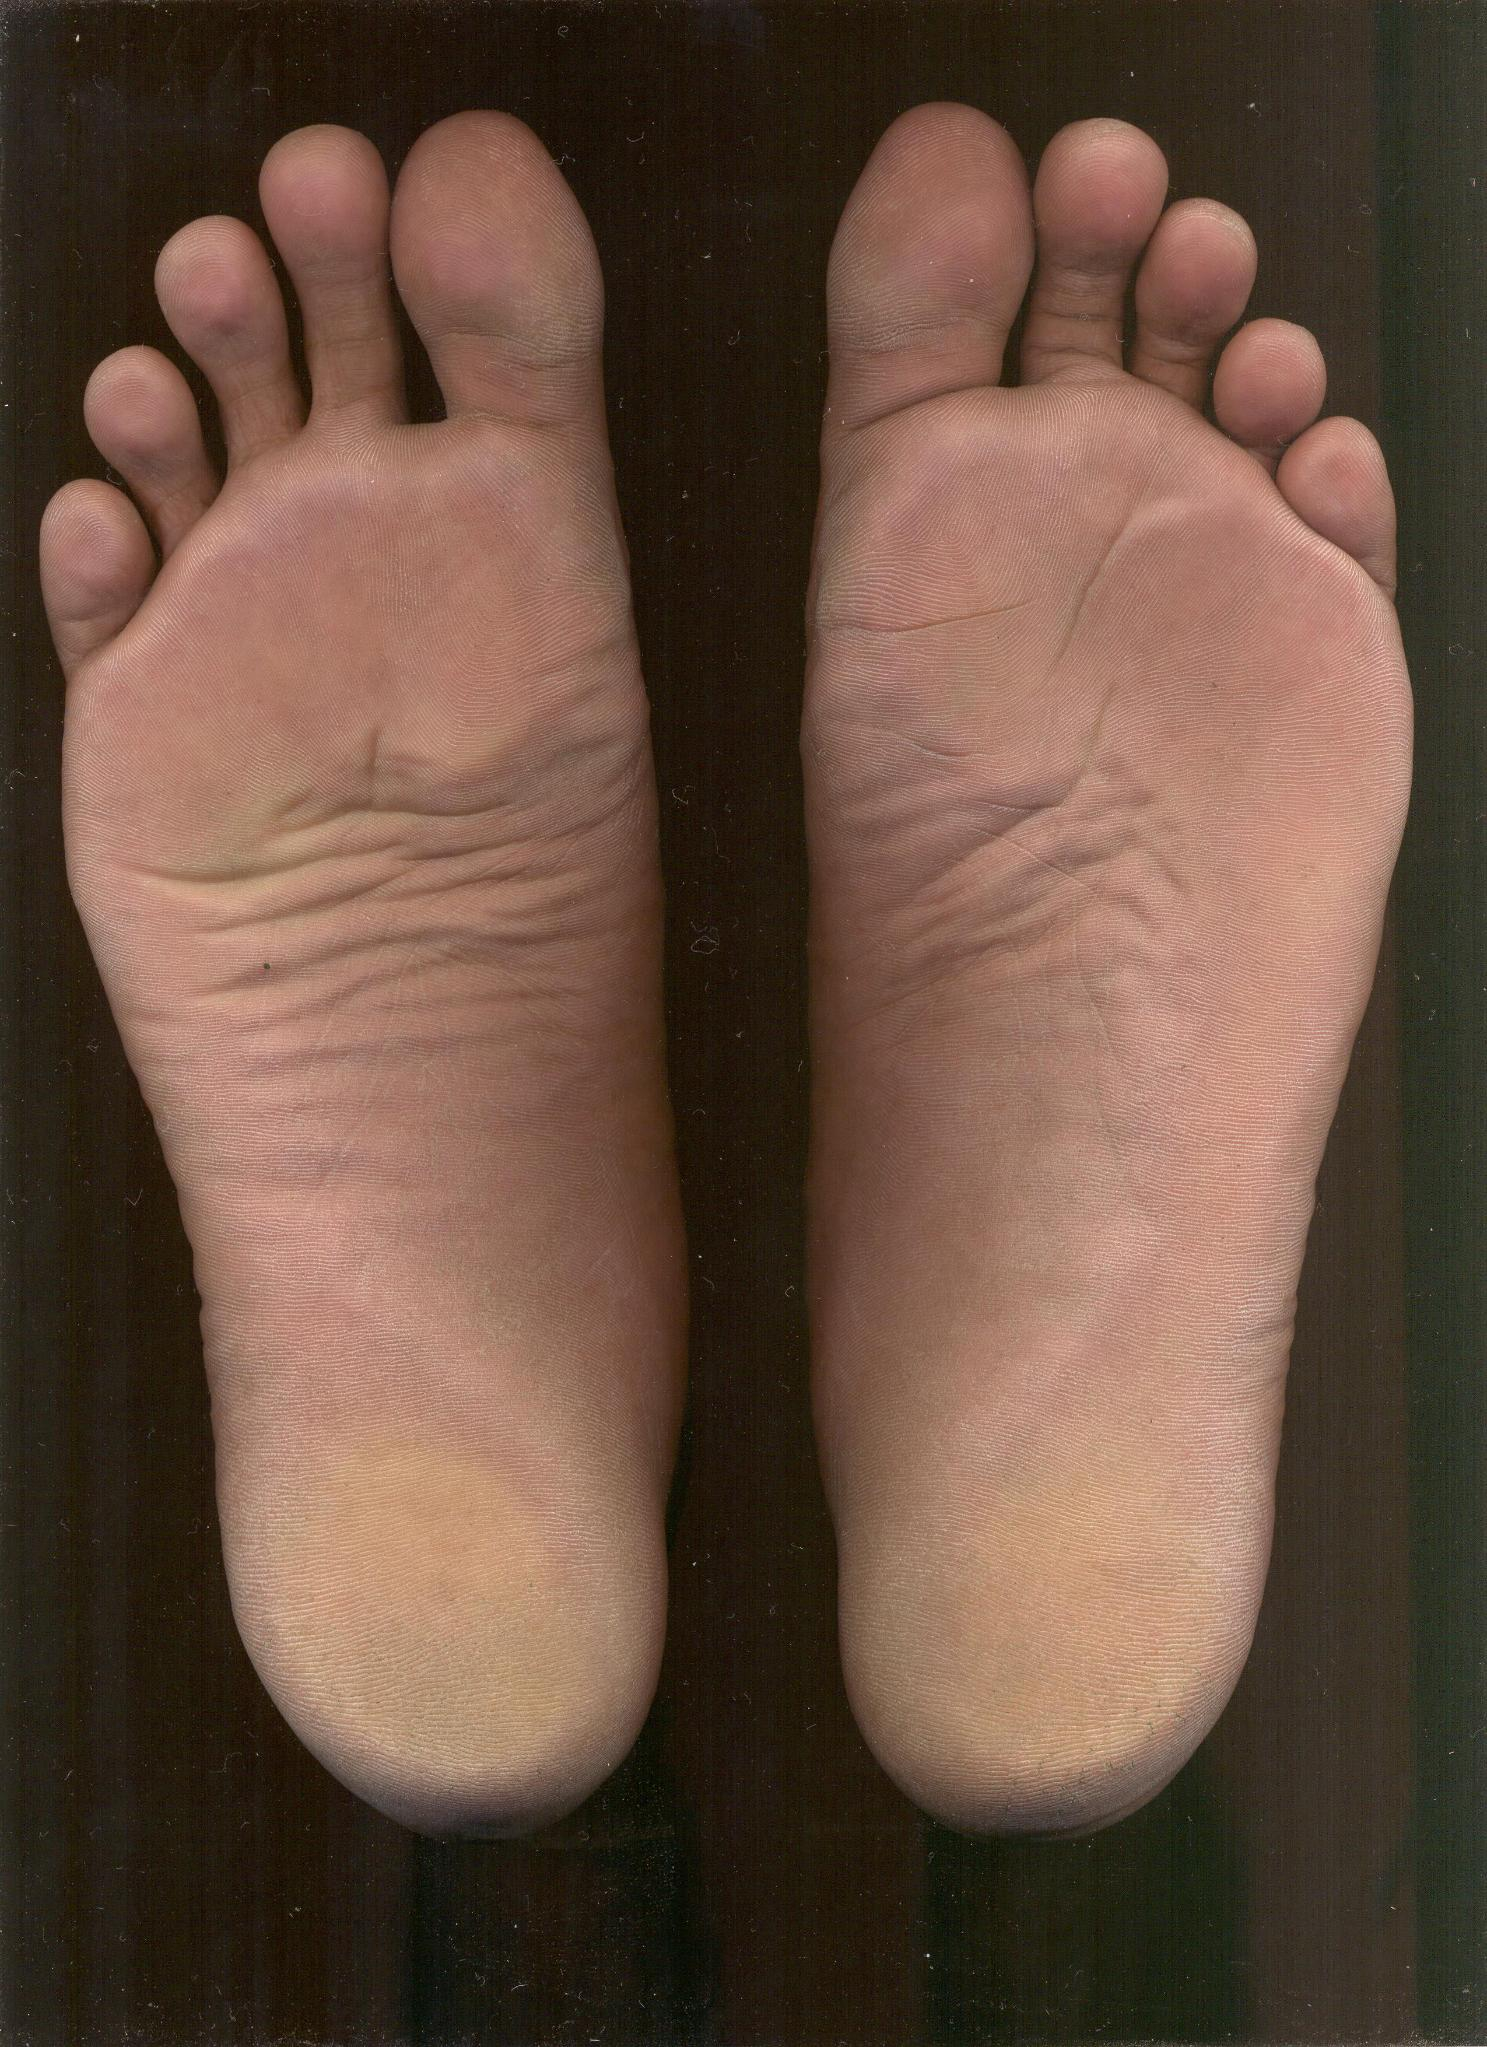Present: (17, 100, 729, 1832), (783, 94, 1430, 1837)
